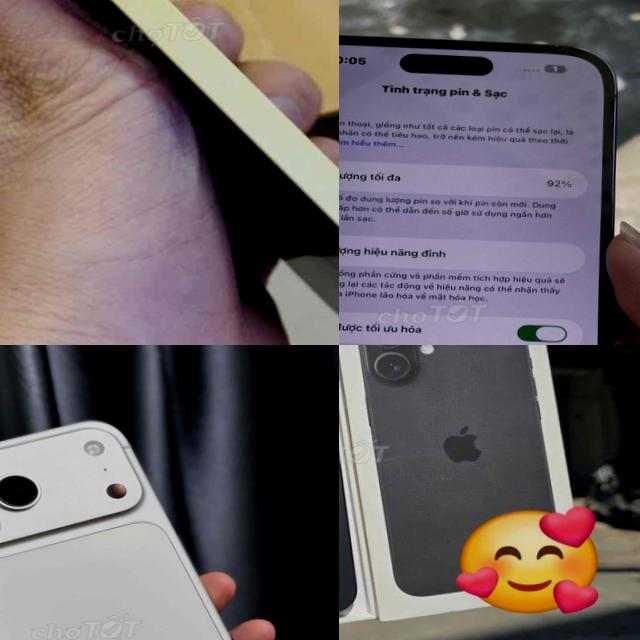gen_14: (0, 0, 339, 345), (339, 19, 619, 345)
gen_17: (0, 413, 303, 640)
